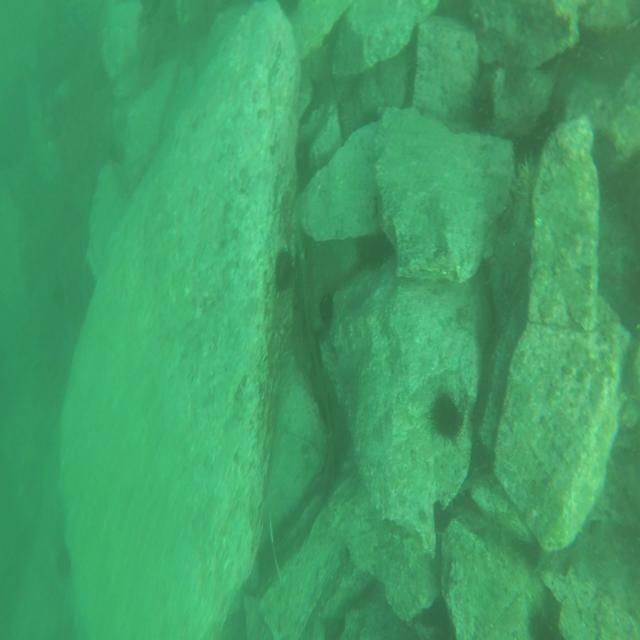echinus: (432, 392, 460, 442), (274, 249, 293, 293), (54, 548, 72, 581), (318, 290, 334, 326)
